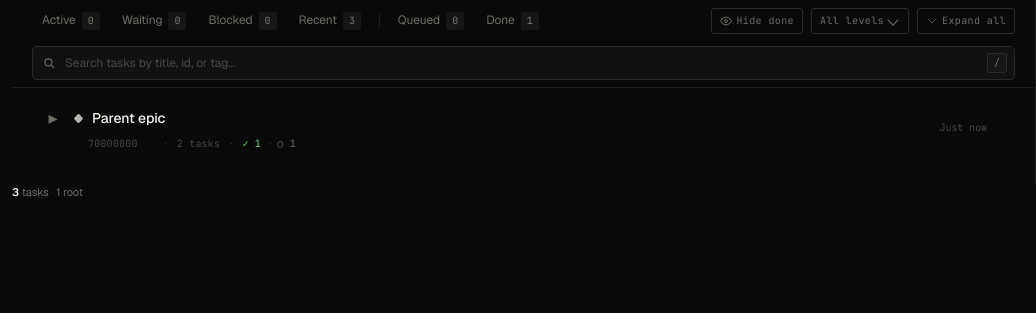
Test: TasksPage › hides completed leaf children once the toggle is on
The width and height of the screenshot is (1036, 313).
# Expand the parent so its children render.
Click the button named "expand" at x=53, y=118, box [44, 104, 62, 133]
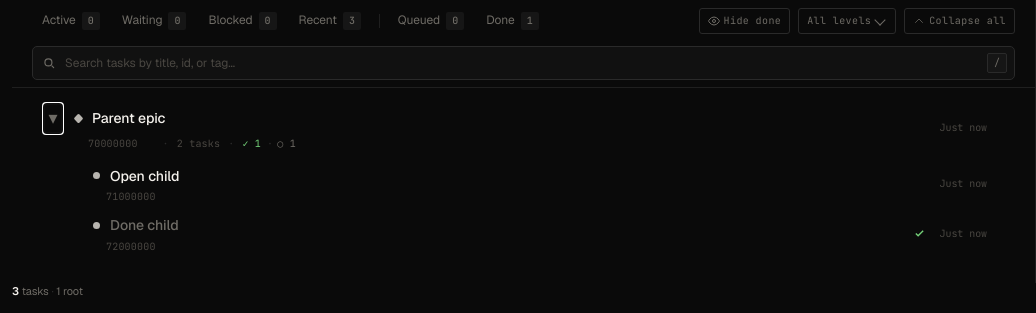
Expected: the text "Done child" is shown, [110, 216, 179, 234]
Click the button with test id "tasks-hide-done" at x=744, y=21, box [699, 8, 790, 34]
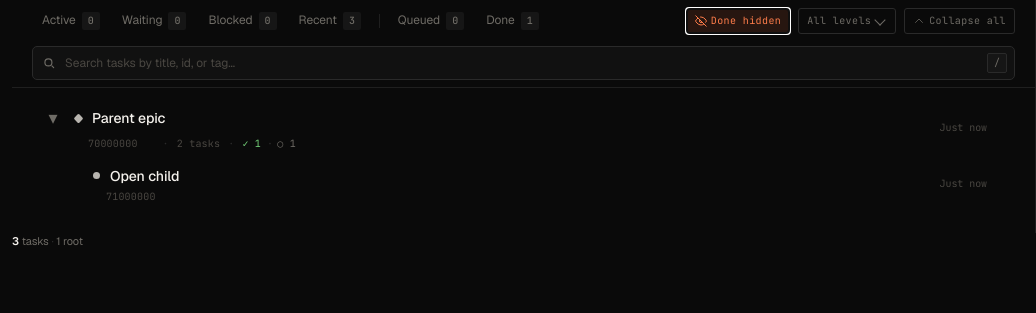
Expected: the text "Open child" is shown, [110, 167, 180, 185]
Expected: the text "Done child" is gone
